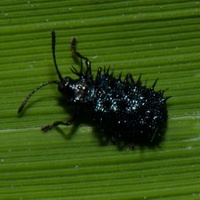insect: (18, 30, 170, 148)
